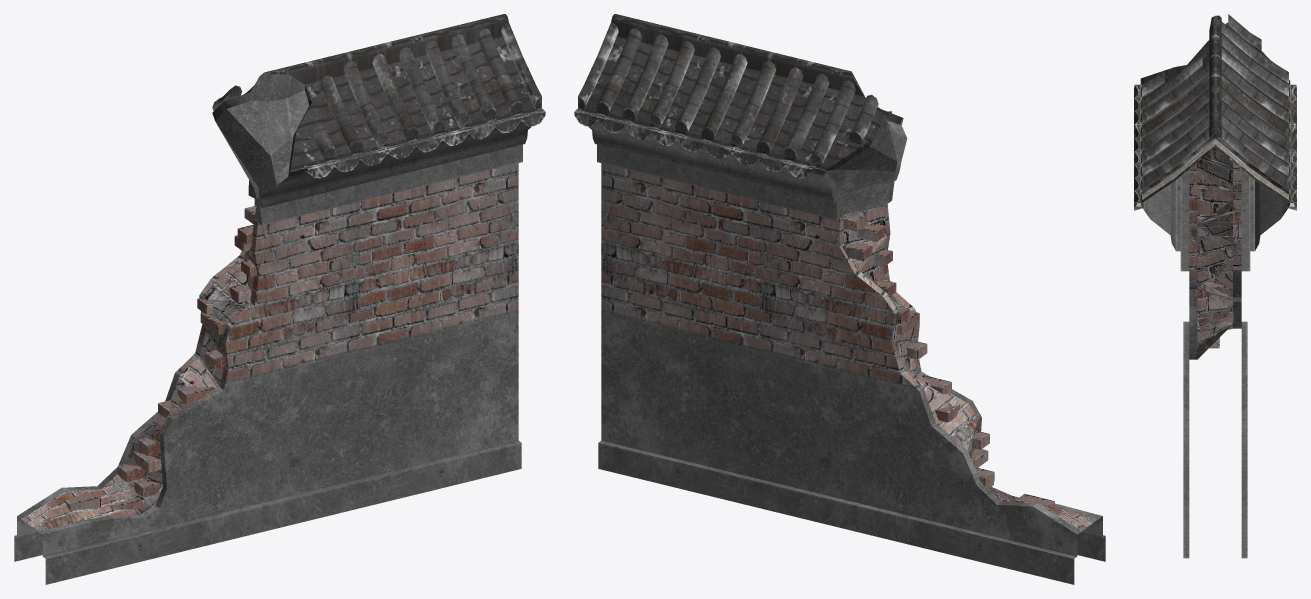
File: hutongWallADmg.fbx
The picture shows the model from 3 angles, left to right: view 1: azimuth 30°, elevation 25°; view 2: azimuth 150°, elevation 25°; view 3: azimuth 270°, elevation 25°; orthographic projection.
Parts seen in each view (by area): view 1: hutong_wall_a_dmg; view 2: hutong_wall_a_dmg; view 3: hutong_wall_a_dmg.
Boxes of the visible parts, box(x1,y1,x2,y2) form: hutong_wall_a_dmg: box(14, 14, 545, 584); hutong_wall_a_dmg: box(574, 14, 1105, 584); hutong_wall_a_dmg: box(1134, 14, 1296, 558).
Bounding box in the file's own units: 380 × 338 × 111.
